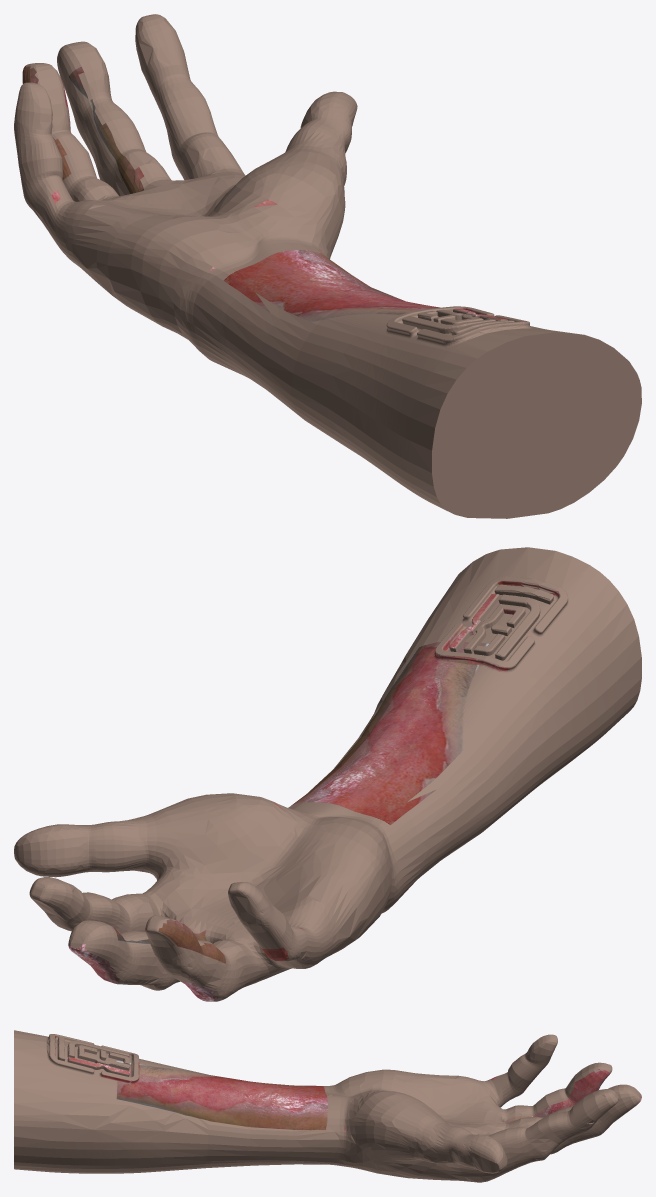
File: hand_burn.dae
3 views of the same model, one above another, from view 1: azimuth 30°, elevation 25°; view 2: azimuth 150°, elevation 25°; view 3: azimuth 270°, elevation 25° (orthographic). The views are drawn at different scales.
Visible parts, largest first — view 1: node0; view 2: node0; view 3: node0.
Part boxes in pixels (x1,y1,x2,y2): node0: [14, 14, 641, 518]; node0: [14, 547, 641, 1001]; node0: [14, 1030, 641, 1182].
Size of the model in its own units: 0.1743 by 0.4653 by 0.1043.
